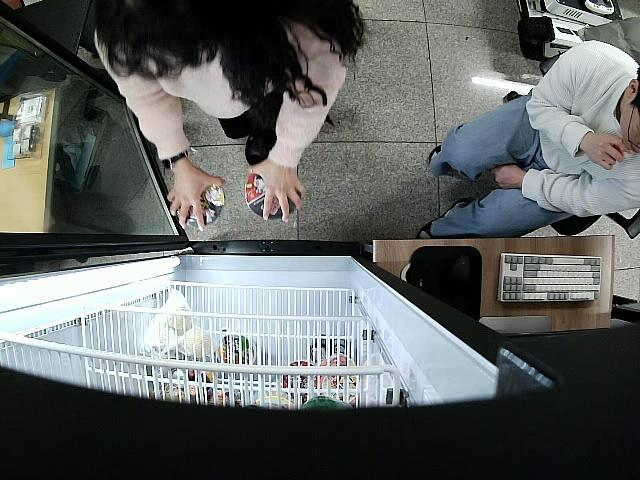00_hand: (247, 159, 307, 227), (167, 169, 225, 232)
07_buldak_L: (243, 171, 301, 219), (169, 181, 225, 227)
